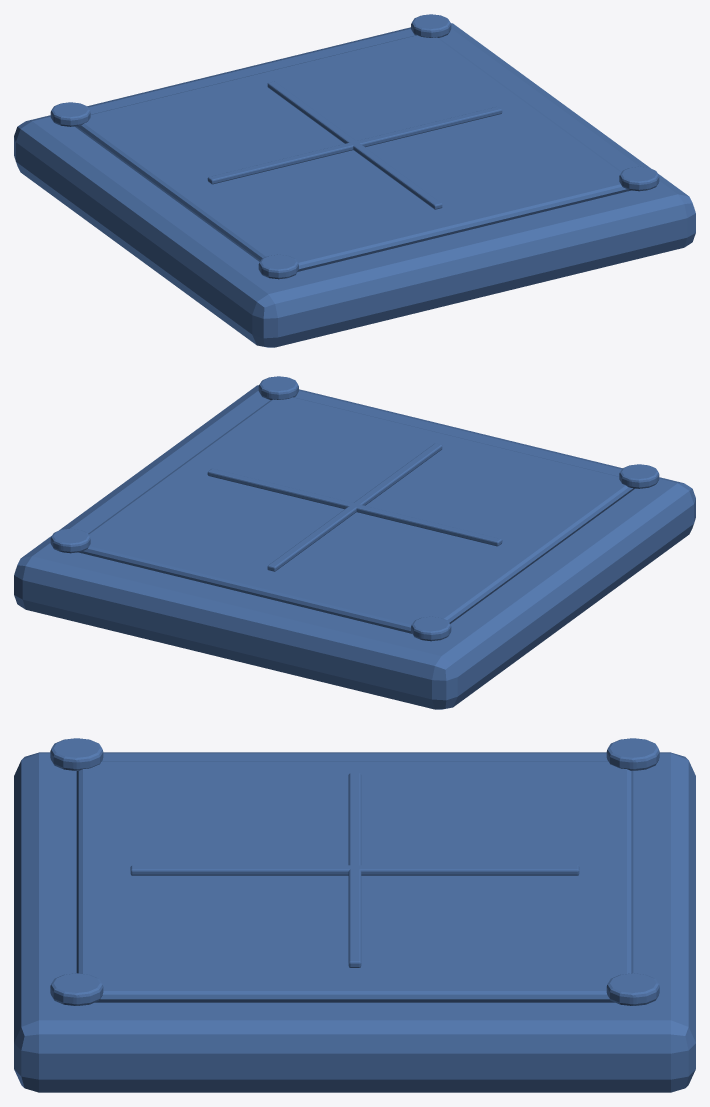
File: moving_platform.glb
3 renders of one model, top to bottom at view 1: azimuth 30°, elevation 25°; view 2: azimuth 150°, elevation 25°; view 3: azimuth 270°, elevation 25°, orthographic. The views are drawn at different scales.
Visible parts, largest first — view 1: moving_platform_MobileMesh; view 2: moving_platform_MobileMesh; view 3: moving_platform_MobileMesh.
Boxes of the visible parts, left/top/right/bottom form: moving_platform_MobileMesh: left=14, top=14, right=695, bottom=347; moving_platform_MobileMesh: left=14, top=376, right=695, bottom=709; moving_platform_MobileMesh: left=14, top=738, right=695, bottom=1092.
Size of the model in its own units: 3.8 by 0.57 by 3.8.
